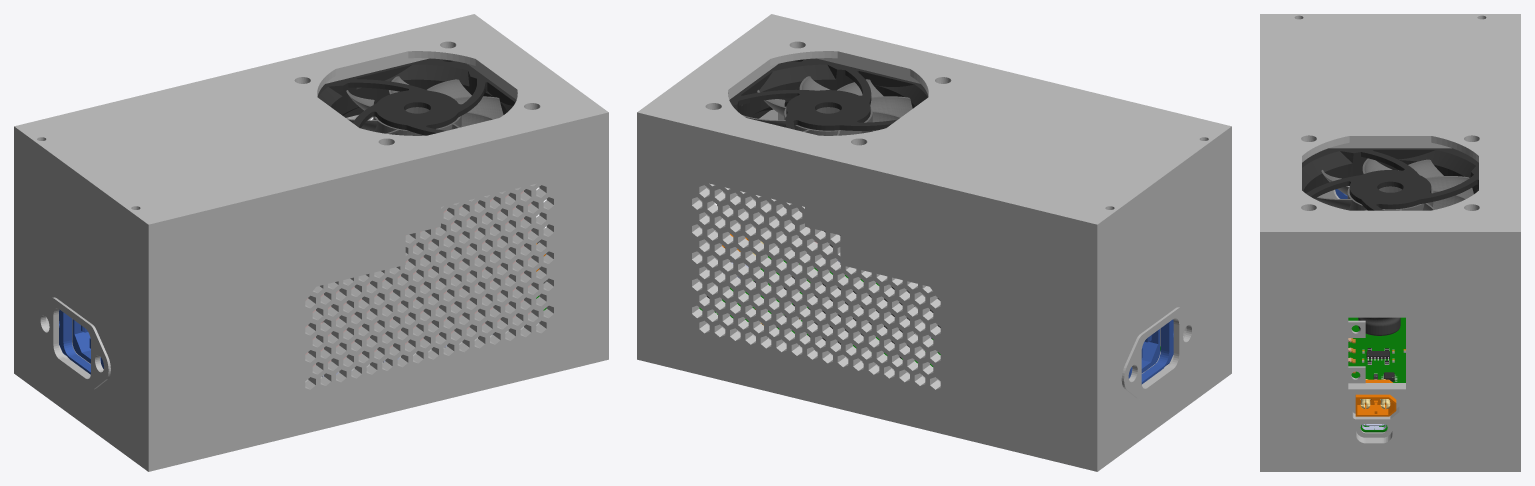
File: E-Load.glb
3 renders of one model, left to right at view 1: azimuth 30°, elevation 25°; view 2: azimuth 150°, elevation 25°; view 3: azimuth 270°, elevation 25°, orthographic. The views are drawn at different scales.
Visible parts, largest first — view 1: Side Enclosure [Left], Top-Lid, Bottom-Body, Fan_Enclosure, Side Enclosure [Right], Fan_Blades, PCB, Heatsink; view 2: Side Enclosure [Right], Top-Lid, Bottom-Body, Fan_Enclosure, Side Enclosure [Left], Fan_Blades, PCB; view 3: Top-Lid, Bottom-Body, Fan_Enclosure, Side Enclosure [Left], Side Enclosure [Right], PCB, Fan_Blades.
Boxes of the visible parts, x1,y1,x2,y2 form: Side Enclosure [Left]: [141, 107, 608, 471]; Top-Lid: [21, 19, 600, 299]; Bottom-Body: [21, 212, 546, 465]; Fan_Enclosure: [317, 58, 516, 135]; Side Enclosure [Right]: [14, 14, 481, 378]; Fan_Blades: [346, 76, 503, 135]; PCB: [59, 243, 546, 376]; Heatsink: [305, 191, 531, 366]; Side Enclosure [Right]: [637, 107, 1104, 471]; Top-Lid: [645, 19, 1224, 299]; Bottom-Body: [699, 109, 1224, 465]; Fan_Enclosure: [729, 58, 928, 130]; Side Enclosure [Left]: [764, 14, 1231, 378]; Fan_Blades: [742, 76, 912, 135]; PCB: [699, 231, 1173, 384]; Top-Lid: [1274, 14, 1506, 310]; Bottom-Body: [1274, 145, 1506, 471]; Fan_Enclosure: [1302, 148, 1478, 210]; Side Enclosure [Left]: [1260, 14, 1274, 471]; Side Enclosure [Right]: [1506, 14, 1520, 471]; PCB: [1335, 189, 1405, 432]; Fan_Blades: [1315, 158, 1473, 210].
Size of the model in its own units: 0.1964 by 0.105 by 0.0988.
